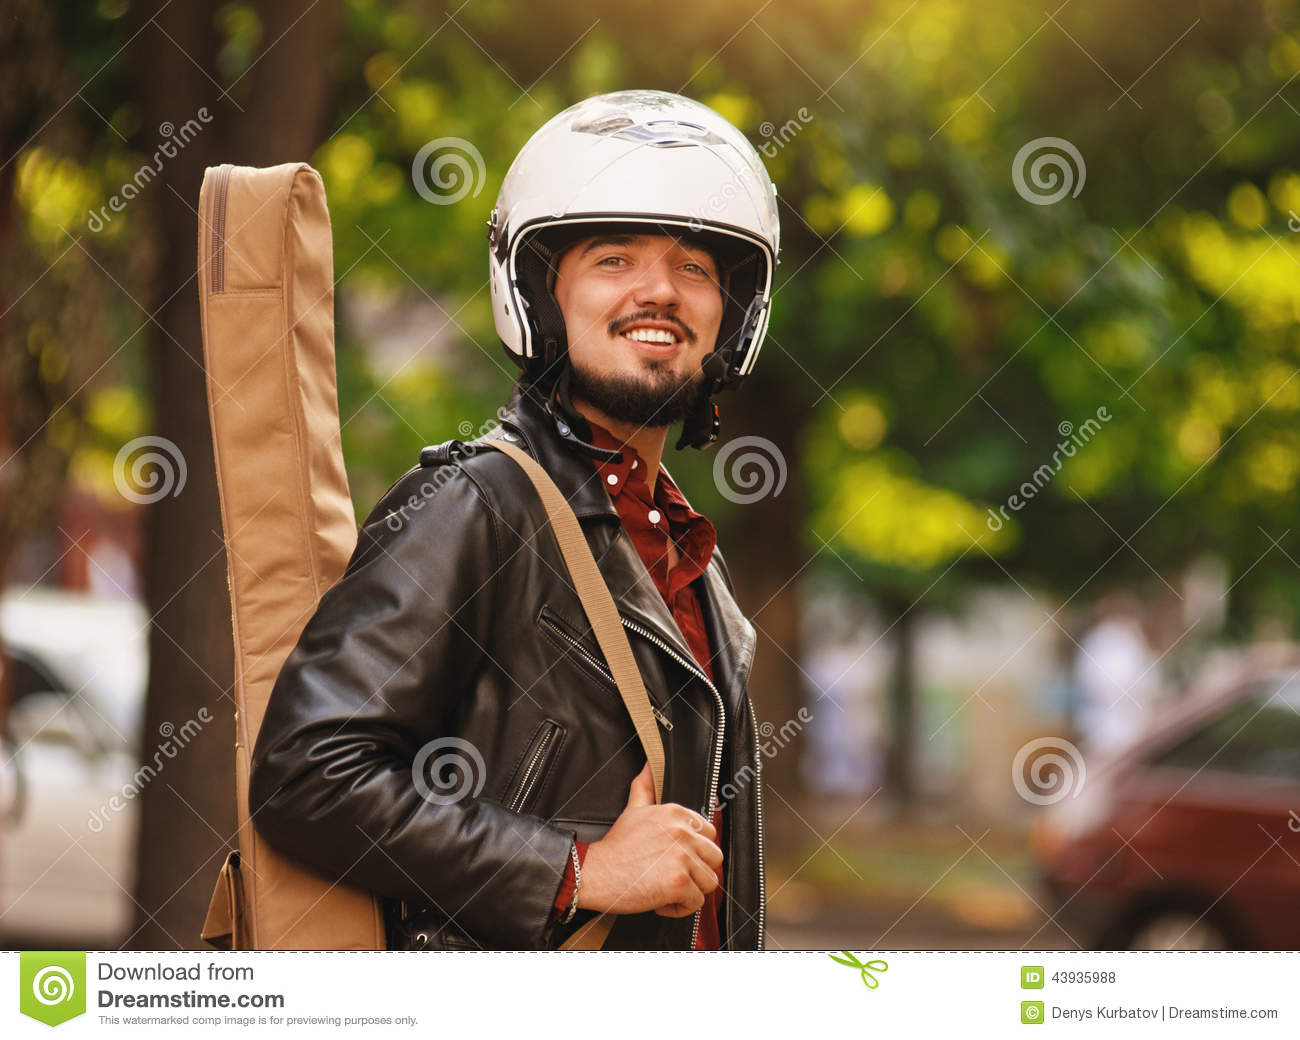helmet: (460, 73, 788, 363)
